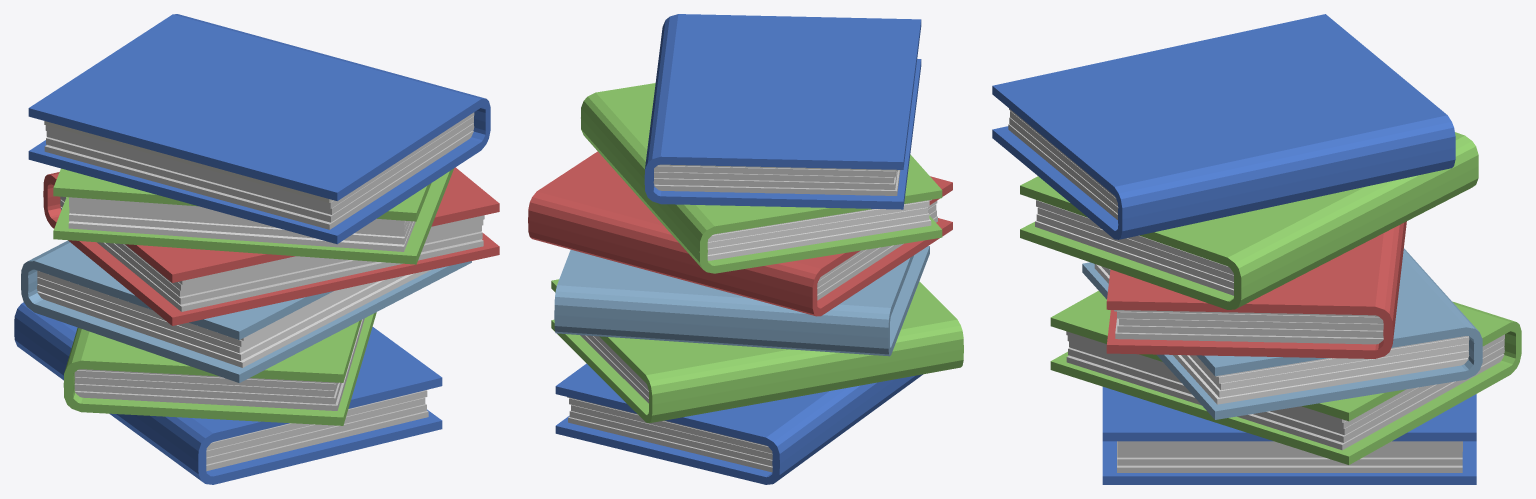
File: book6.fbx
3 renders of one model, left to right at view 1: azimuth 30°, elevation 25°; view 2: azimuth 150°, elevation 25°; view 3: azimuth 270°, elevation 25°, orthographic. The views are drawn at different scales.
Visible parts, largest first — view 1: book 6, book 1, book 4, book 3, book 2, book 5, Cube.028, Cube.029, Cube.017, Cube.016, Cube.027, Cube.018 (+21 smaller); view 2: book 6, book 3, book 2, book 4, book 5, book 1, Cube.028, Cube.026, Cube.027, Cube.029, Cube.031, Cube.032 (+8 smaller); view 3: book 6, book 5, book 4, book 1, book 2, book 3, Cube.000, Cube.004, Cube.005, Cube.006, Cube.016, Cube.017 (+19 smaller).
Boxes of the visible parts, bbox=[...] form: book 6: bbox=[28, 14, 490, 244]; book 1: bbox=[14, 302, 442, 484]; book 4: bbox=[43, 167, 499, 325]; book 3: bbox=[21, 240, 471, 382]; book 2: bbox=[63, 312, 376, 425]; book 5: bbox=[53, 168, 453, 264]; Cube.028: bbox=[46, 123, 474, 222]; Cube.029: bbox=[44, 130, 473, 229]; Cube.017: bbox=[37, 269, 431, 367]; Cube.016: bbox=[37, 275, 404, 360]; Cube.027: bbox=[46, 116, 473, 214]; Cube.018: bbox=[60, 207, 483, 311]; book 6: bbox=[644, 14, 921, 209]; book 3: bbox=[554, 246, 929, 356]; book 2: bbox=[551, 279, 963, 423]; book 4: bbox=[528, 151, 952, 316]; book 5: bbox=[581, 83, 942, 273]; book 1: bbox=[555, 363, 922, 484]; Cube.028: bbox=[653, 171, 897, 189]; Cube.026: bbox=[654, 165, 896, 177]; Cube.027: bbox=[654, 172, 894, 183]; Cube.029: bbox=[654, 170, 900, 195]; Cube.031: bbox=[707, 213, 929, 254]; Cube.032: bbox=[707, 207, 927, 248]; book 6: bbox=[992, 14, 1455, 239]; book 5: bbox=[1020, 132, 1478, 309]; book 4: bbox=[1106, 221, 1406, 358]; book 1: bbox=[1102, 387, 1476, 484]; book 2: bbox=[1050, 290, 1521, 464]; book 3: bbox=[1082, 248, 1482, 419]; Cube.000: bbox=[1066, 354, 1504, 450]; Cube.004: bbox=[1117, 457, 1462, 465]; Cube.005: bbox=[1117, 441, 1462, 472]; Cube.006: bbox=[1068, 346, 1504, 442]; Cube.016: bbox=[1101, 266, 1469, 397]; Cube.017: bbox=[1094, 264, 1468, 404].
Size of the model in its own units: 356 by 263 by 394.
